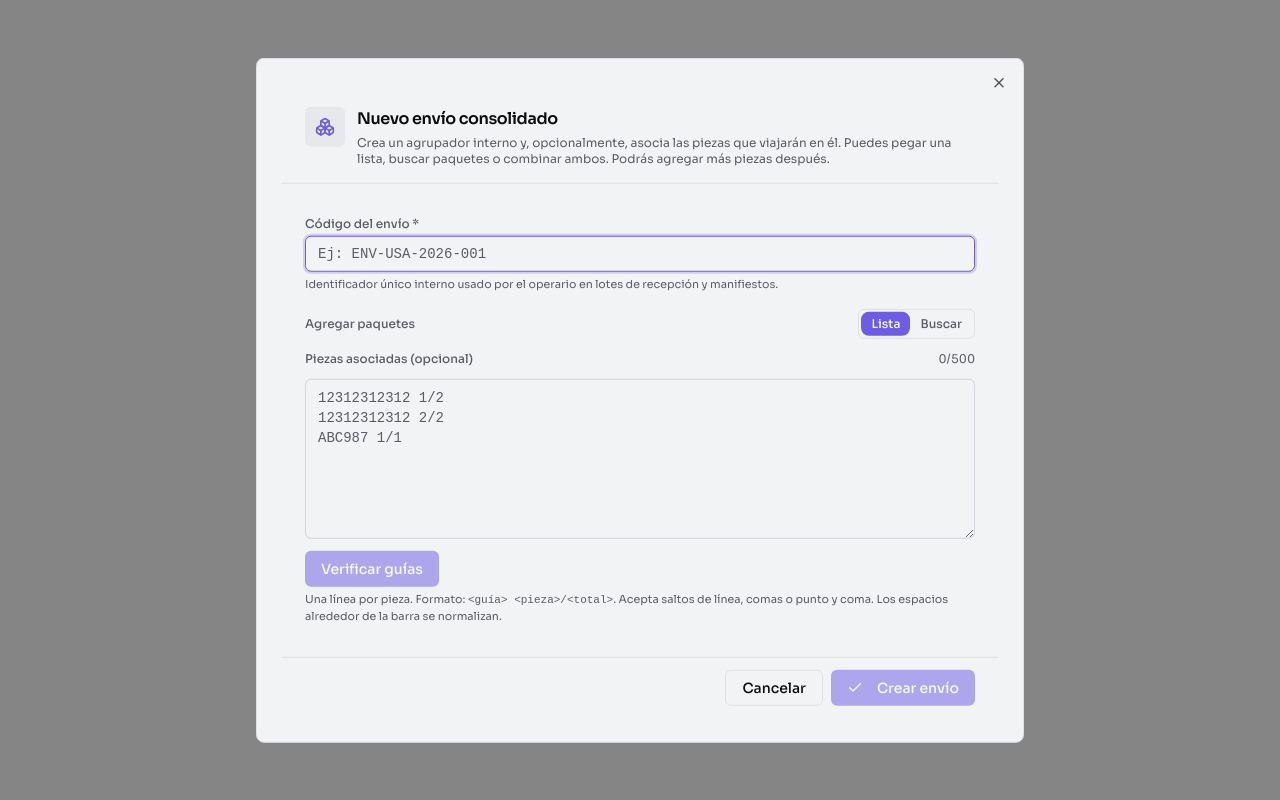
it: CrearEnvioConGuiasDialog › permite deseleccionar un paquete
Click the button "Buscar" at (941, 323), box left=910, top=311, right=972, bottom=335
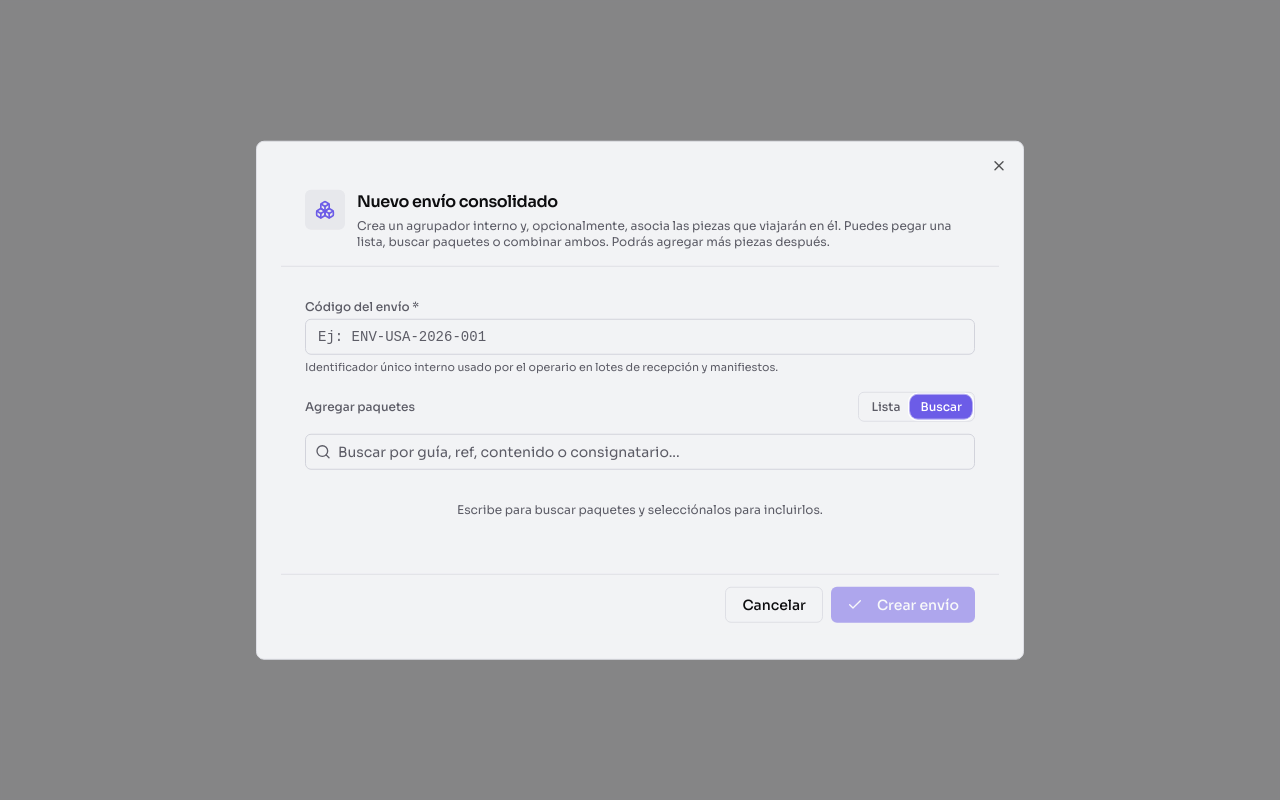
Type "OK" into the field with placeholder "Buscar por guía, ref, contenido o consignatario..." at (640, 451), box left=305, top=433, right=975, bottom=469
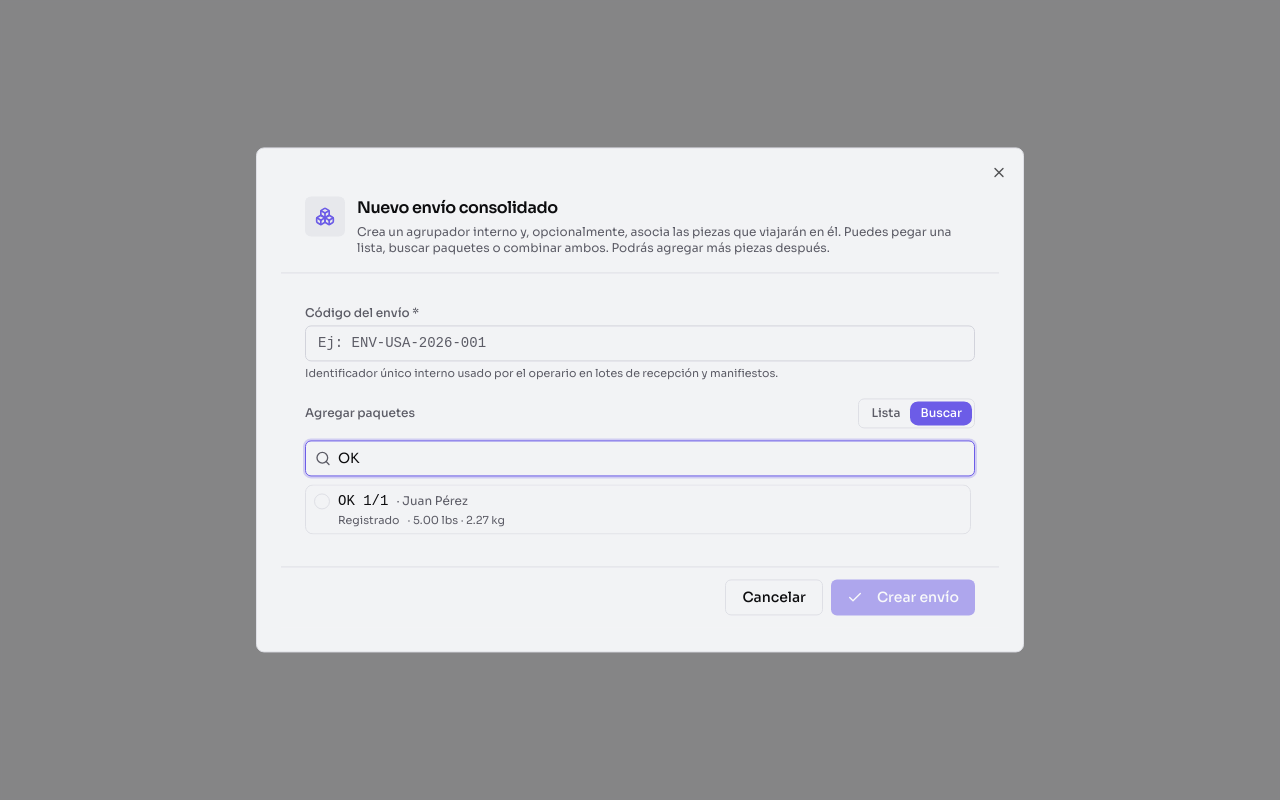
Click the button "OK 1/1 · Juan Pérez Registrado · 5.00 lbs · 2.27 kg" at (363, 501), box left=305, top=484, right=971, bottom=535
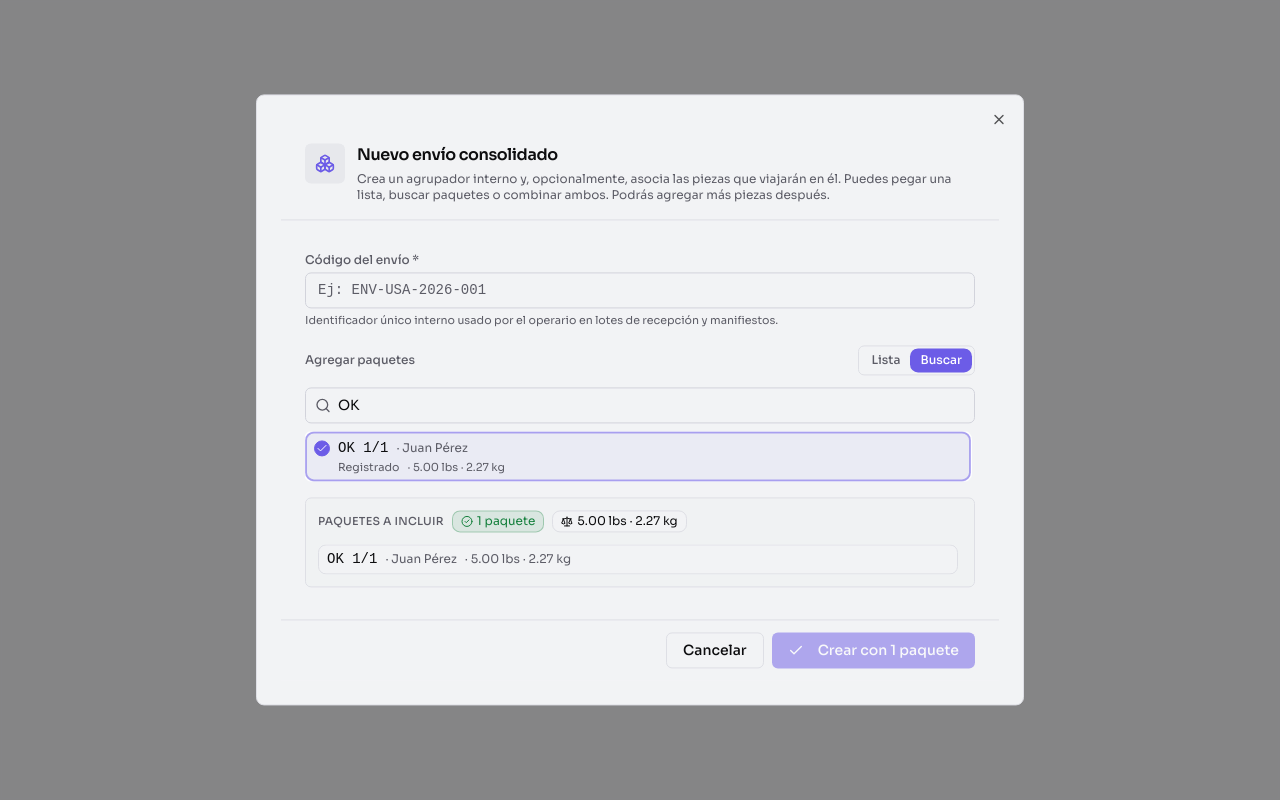
Result: the button "Crear con 1 paquete" is shown at left=772, top=633, right=975, bottom=669
Click the button "OK 1/1 · Juan Pérez Registrado · 5.00 lbs · 2.27 kg" at (363, 448), box left=305, top=431, right=971, bottom=482
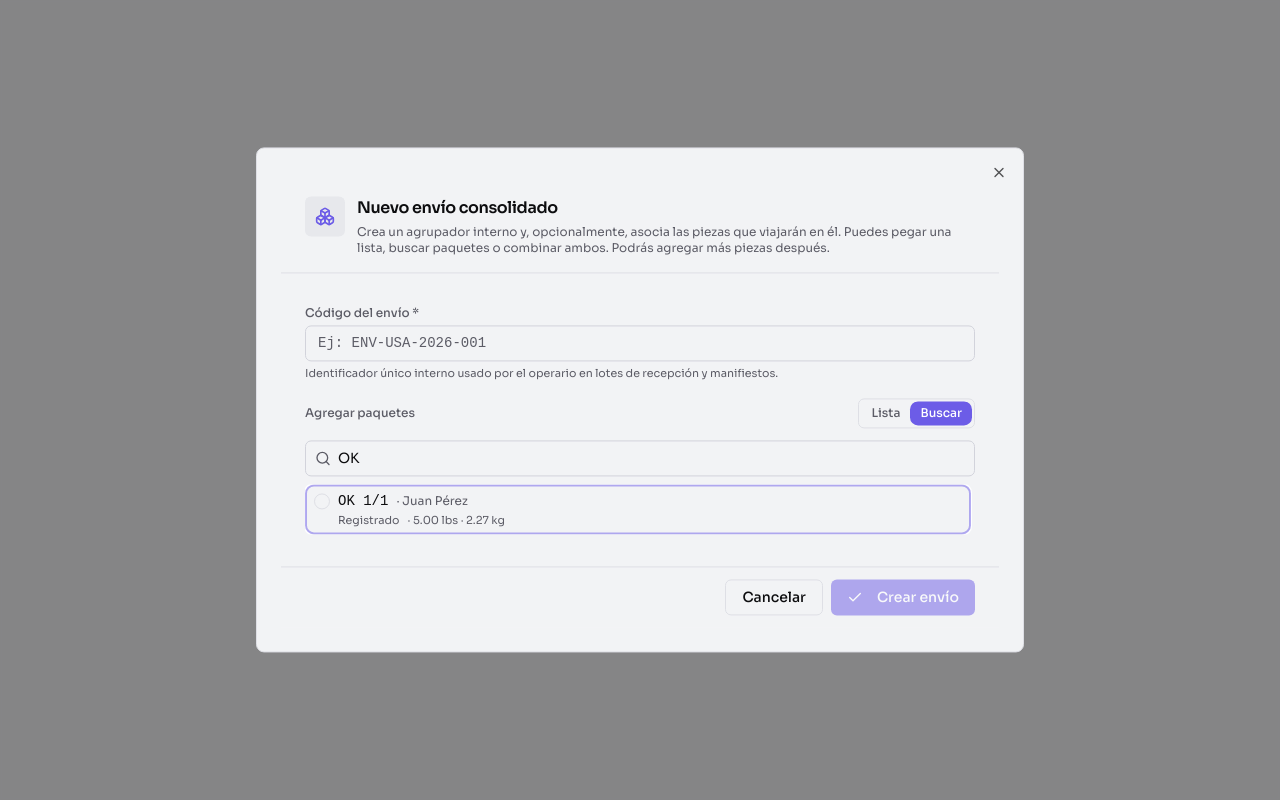
Result: the button "Crear envío" is shown at left=831, top=580, right=975, bottom=616
